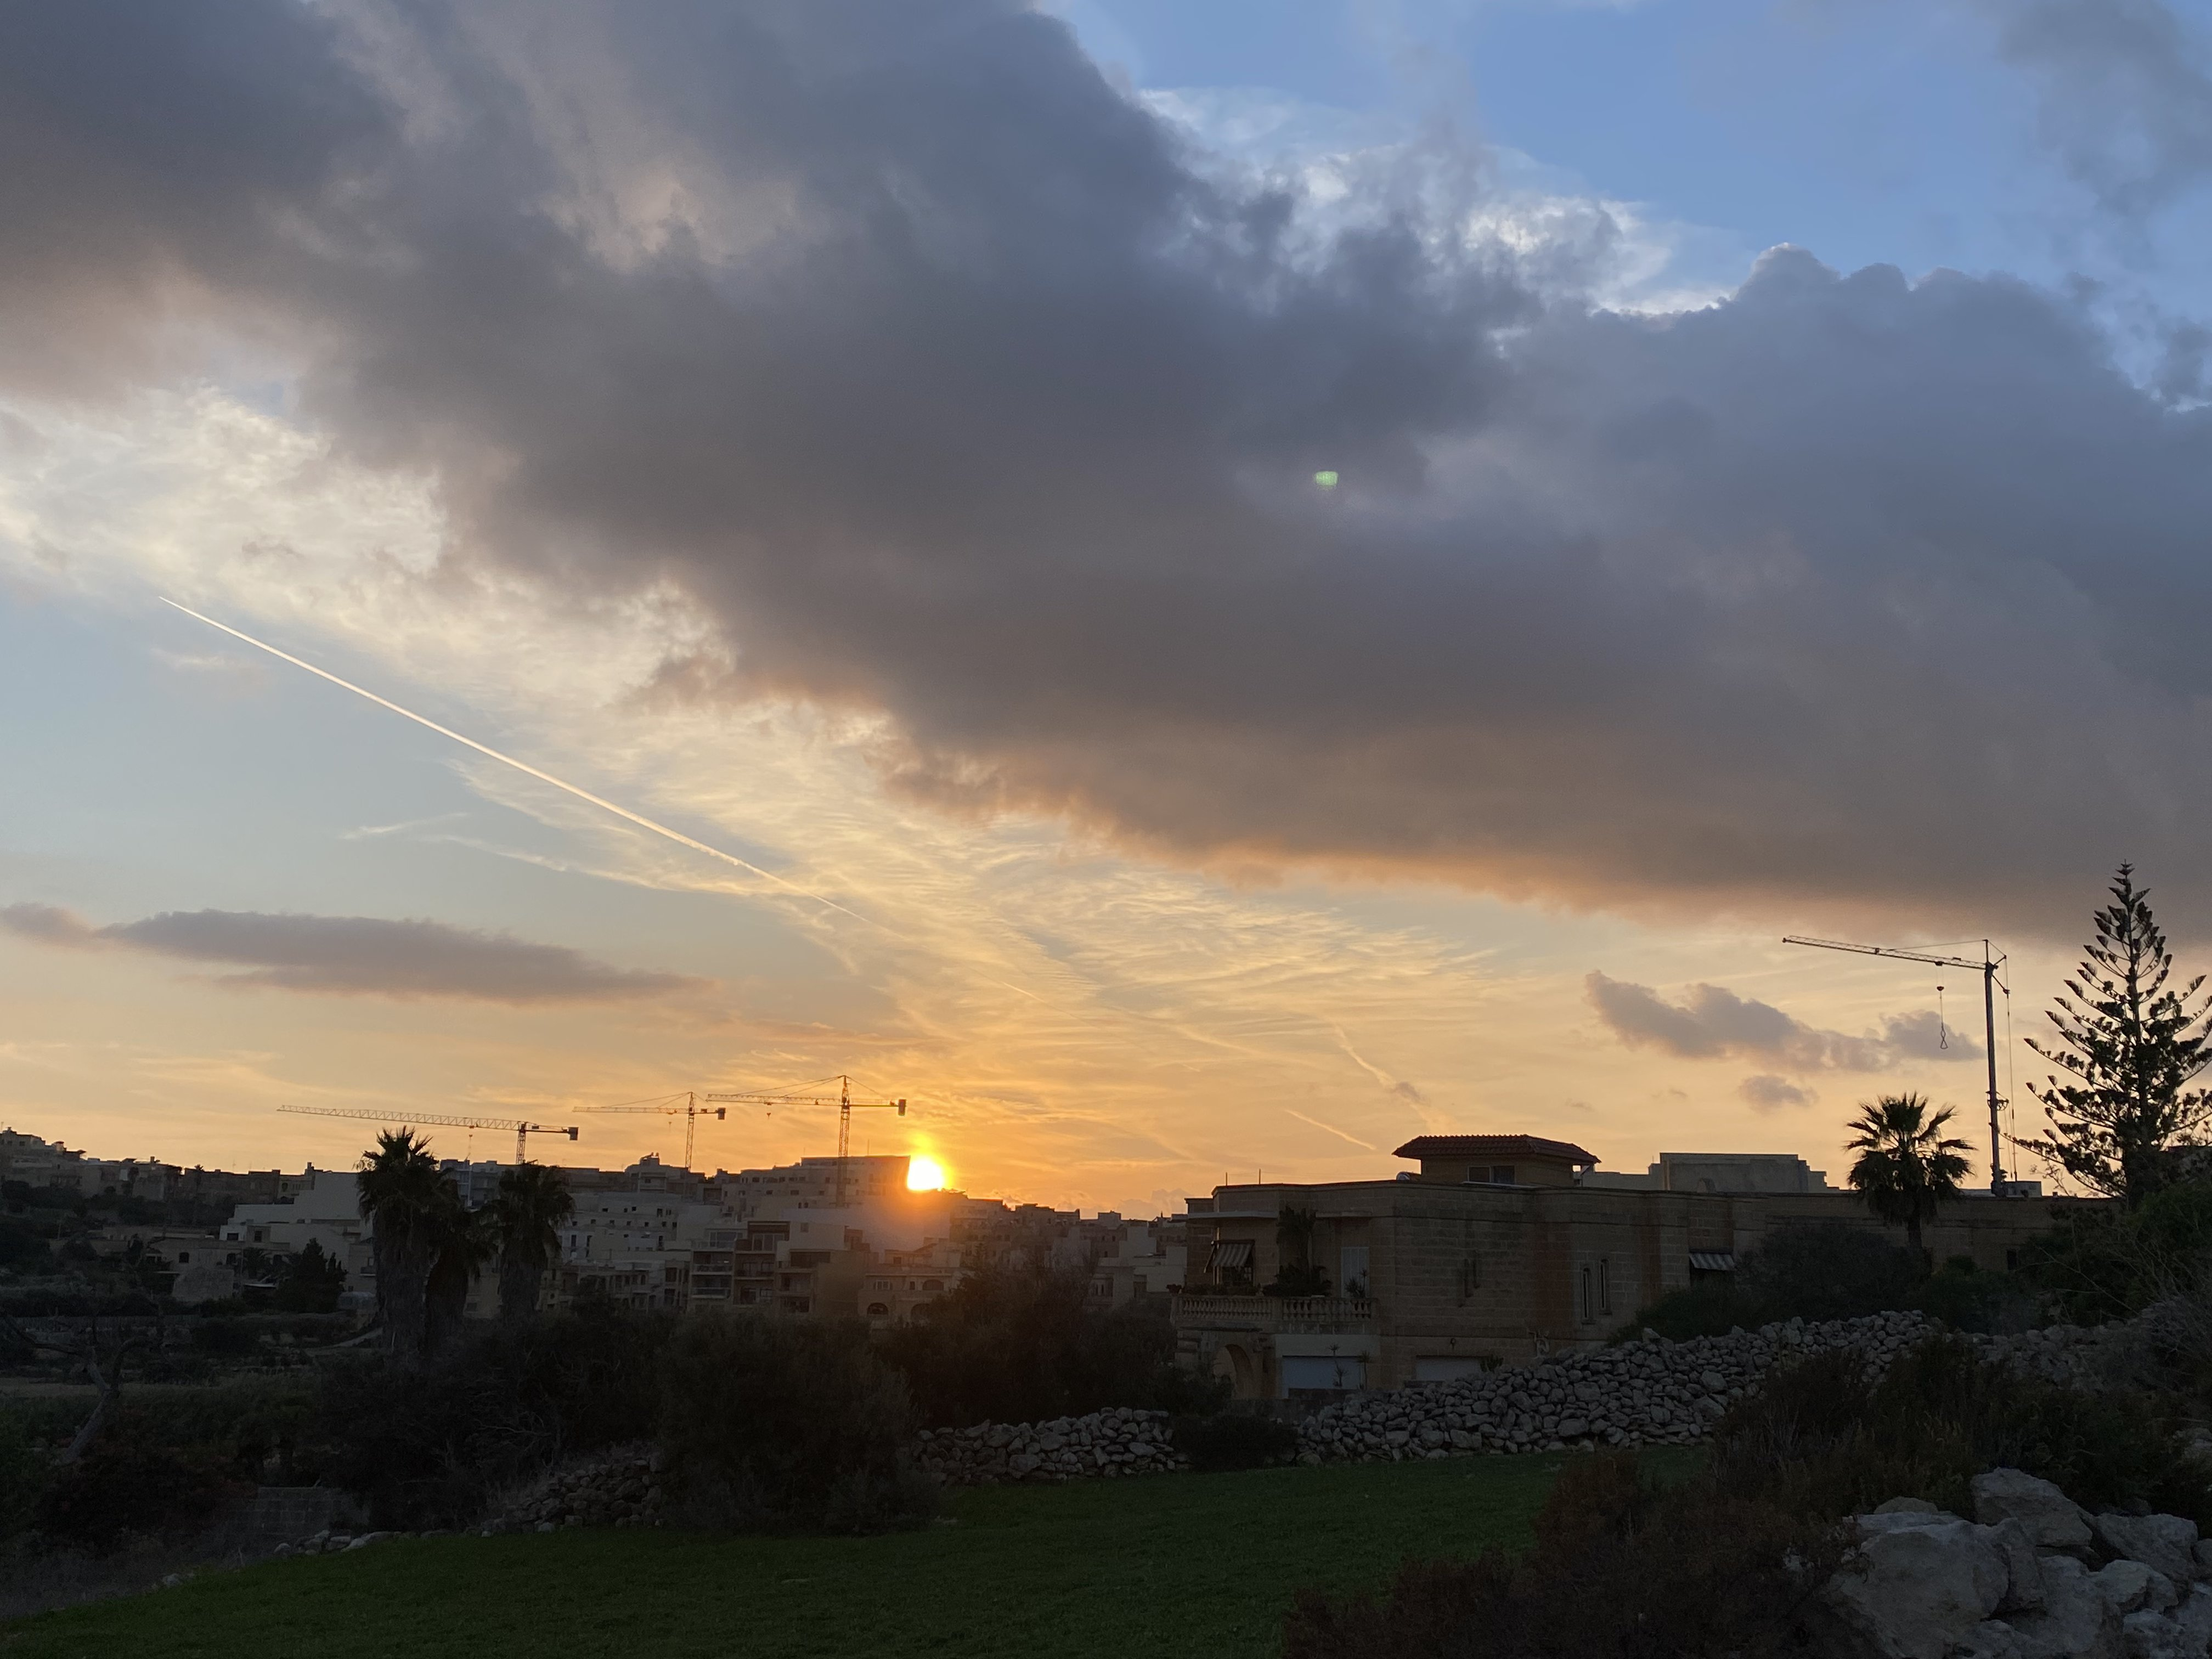crane: (1758, 893, 2045, 1149), (260, 1060, 597, 1171), (684, 1058, 923, 1144)
